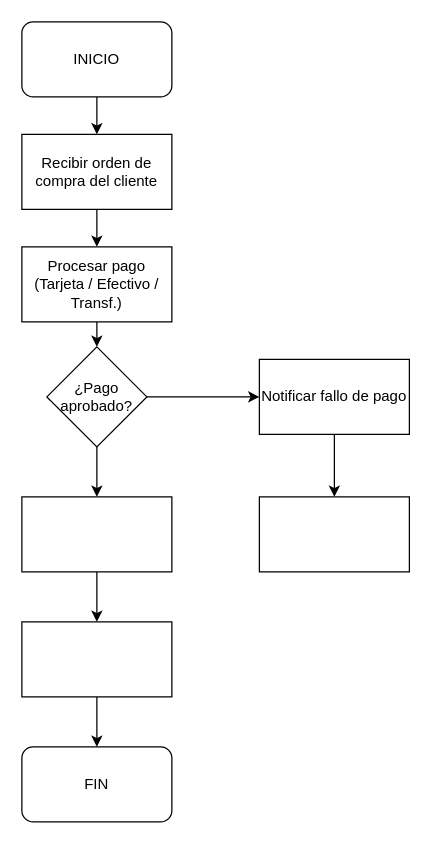
The diagram is 431 pixels wide and 844 high, and some of its shapes have lost their labels. Here are the shapes that lost their labels. From the top down, the centre of each, then its label:
At pixel 96 534: "Registrar venta en base de datos".
At pixel 333 534: "Finalizar visita".
At pixel 96 659: "Generar ticket / Orden de entrega".
